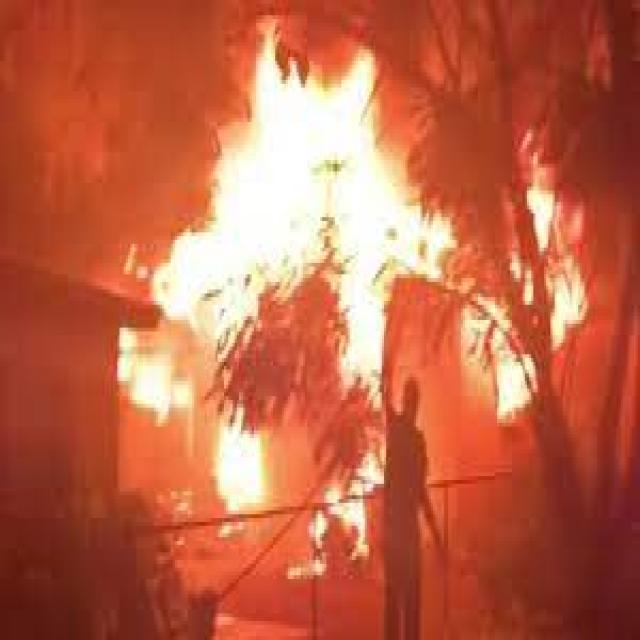Fire: (239, 102, 439, 294), (162, 268, 257, 484), (524, 164, 610, 322)
Smoke: (1, 0, 207, 278)
